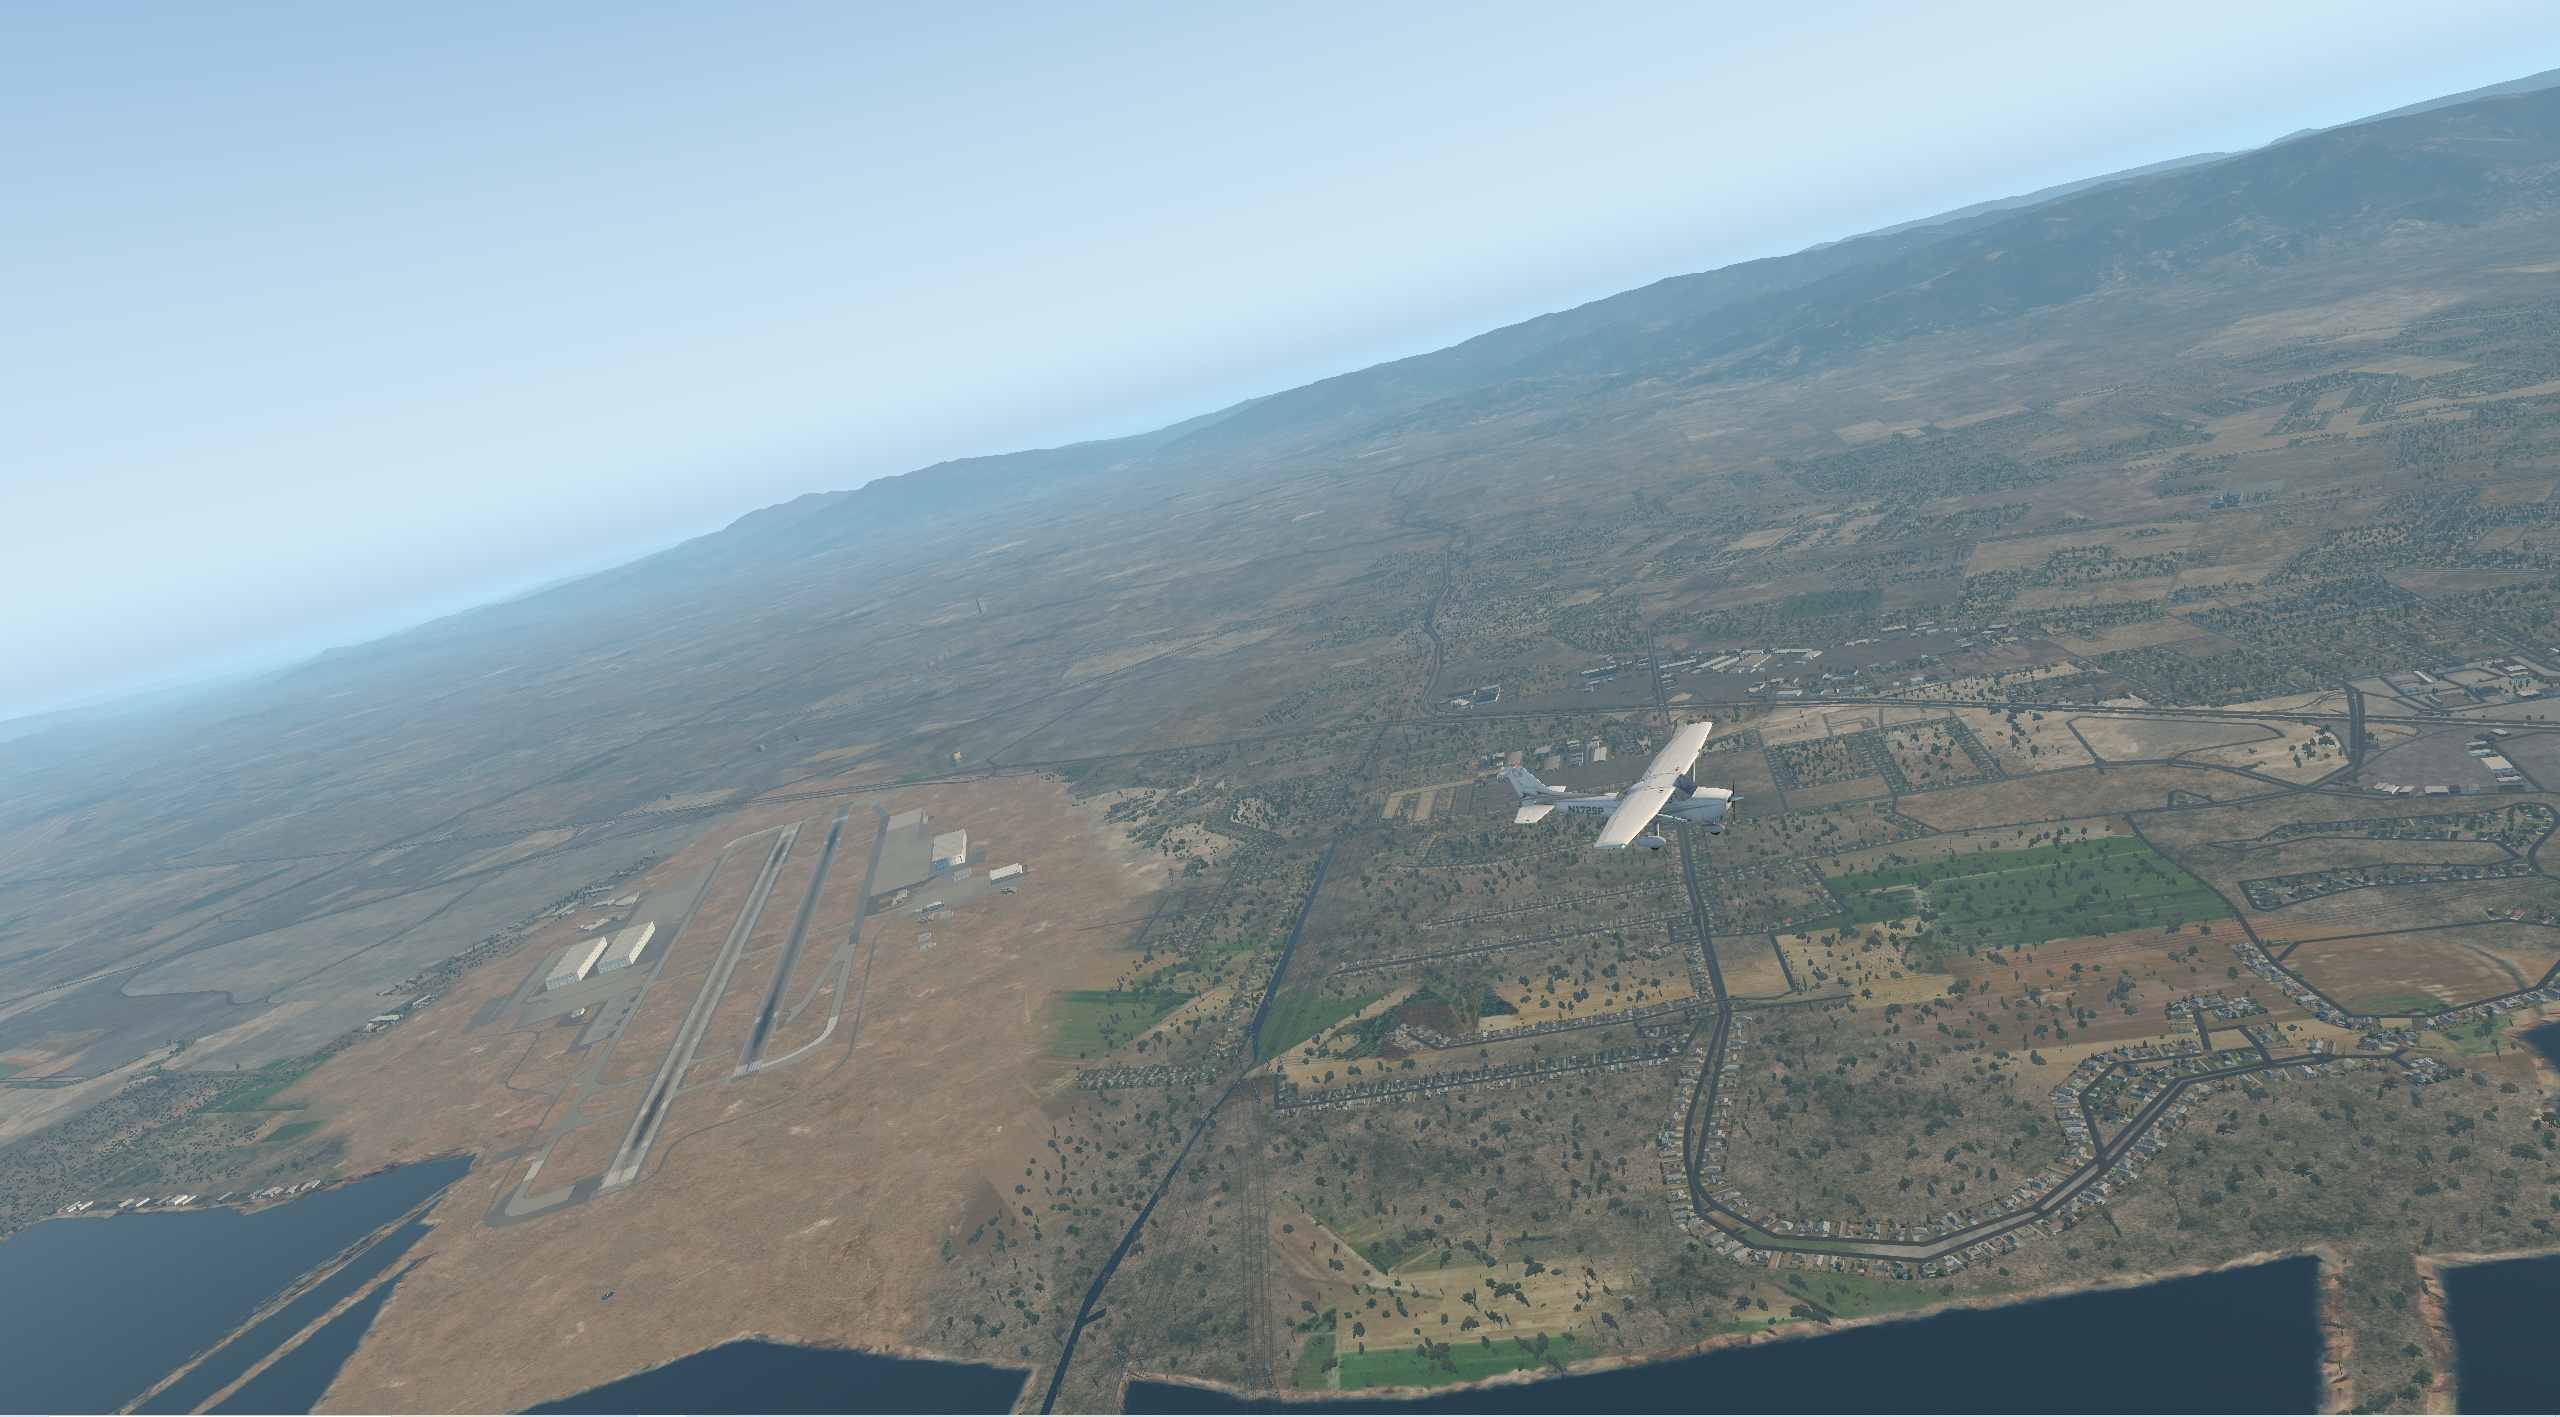aircraft: (1480, 728, 1860, 869)
